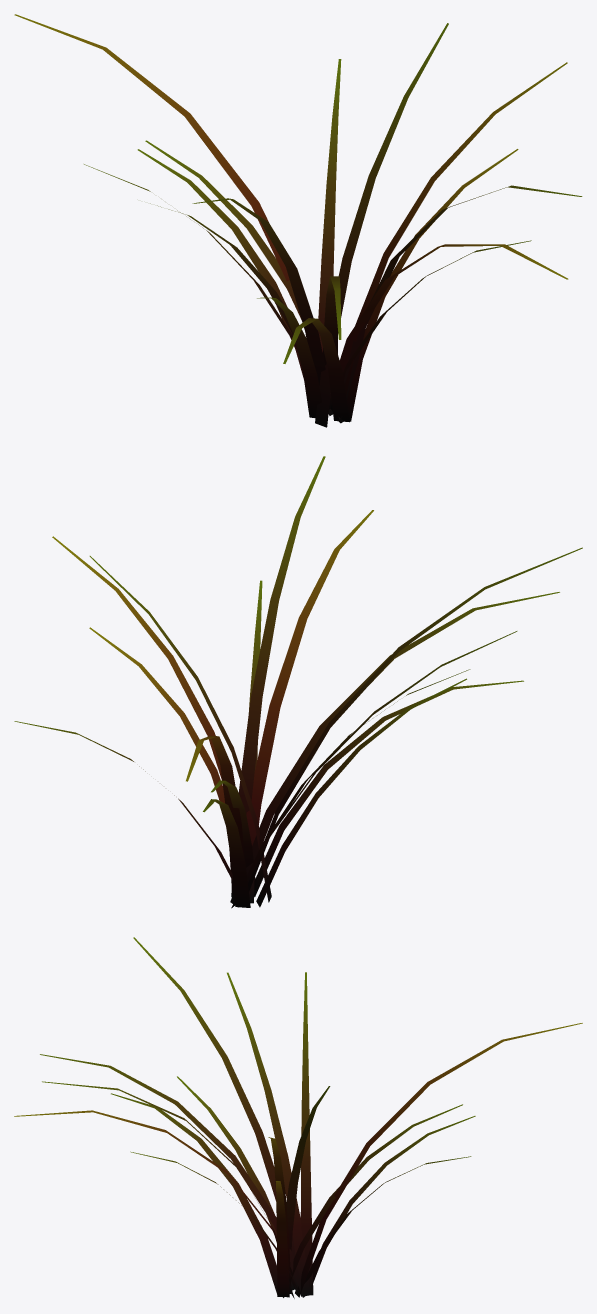
File: elephant_grass_c.glb
The picture shows the model from 3 angles, top to bottom: view 1: azimuth 30°, elevation 25°; view 2: azimuth 150°, elevation 25°; view 3: azimuth 270°, elevation 25°; orthographic projection. The views are drawn at different scales.
Parts seen in each view (by area): view 1: elephant_grass_c; view 2: elephant_grass_c; view 3: elephant_grass_c.
Boxes of the visible parts, bbox=[...] form: elephant_grass_c: bbox=[14, 14, 582, 427]; elephant_grass_c: bbox=[14, 456, 582, 908]; elephant_grass_c: bbox=[14, 937, 582, 1298].
Size of the model in its own units: 2.5 by 1.8 by 3.5.
1 material, 1 textured.
